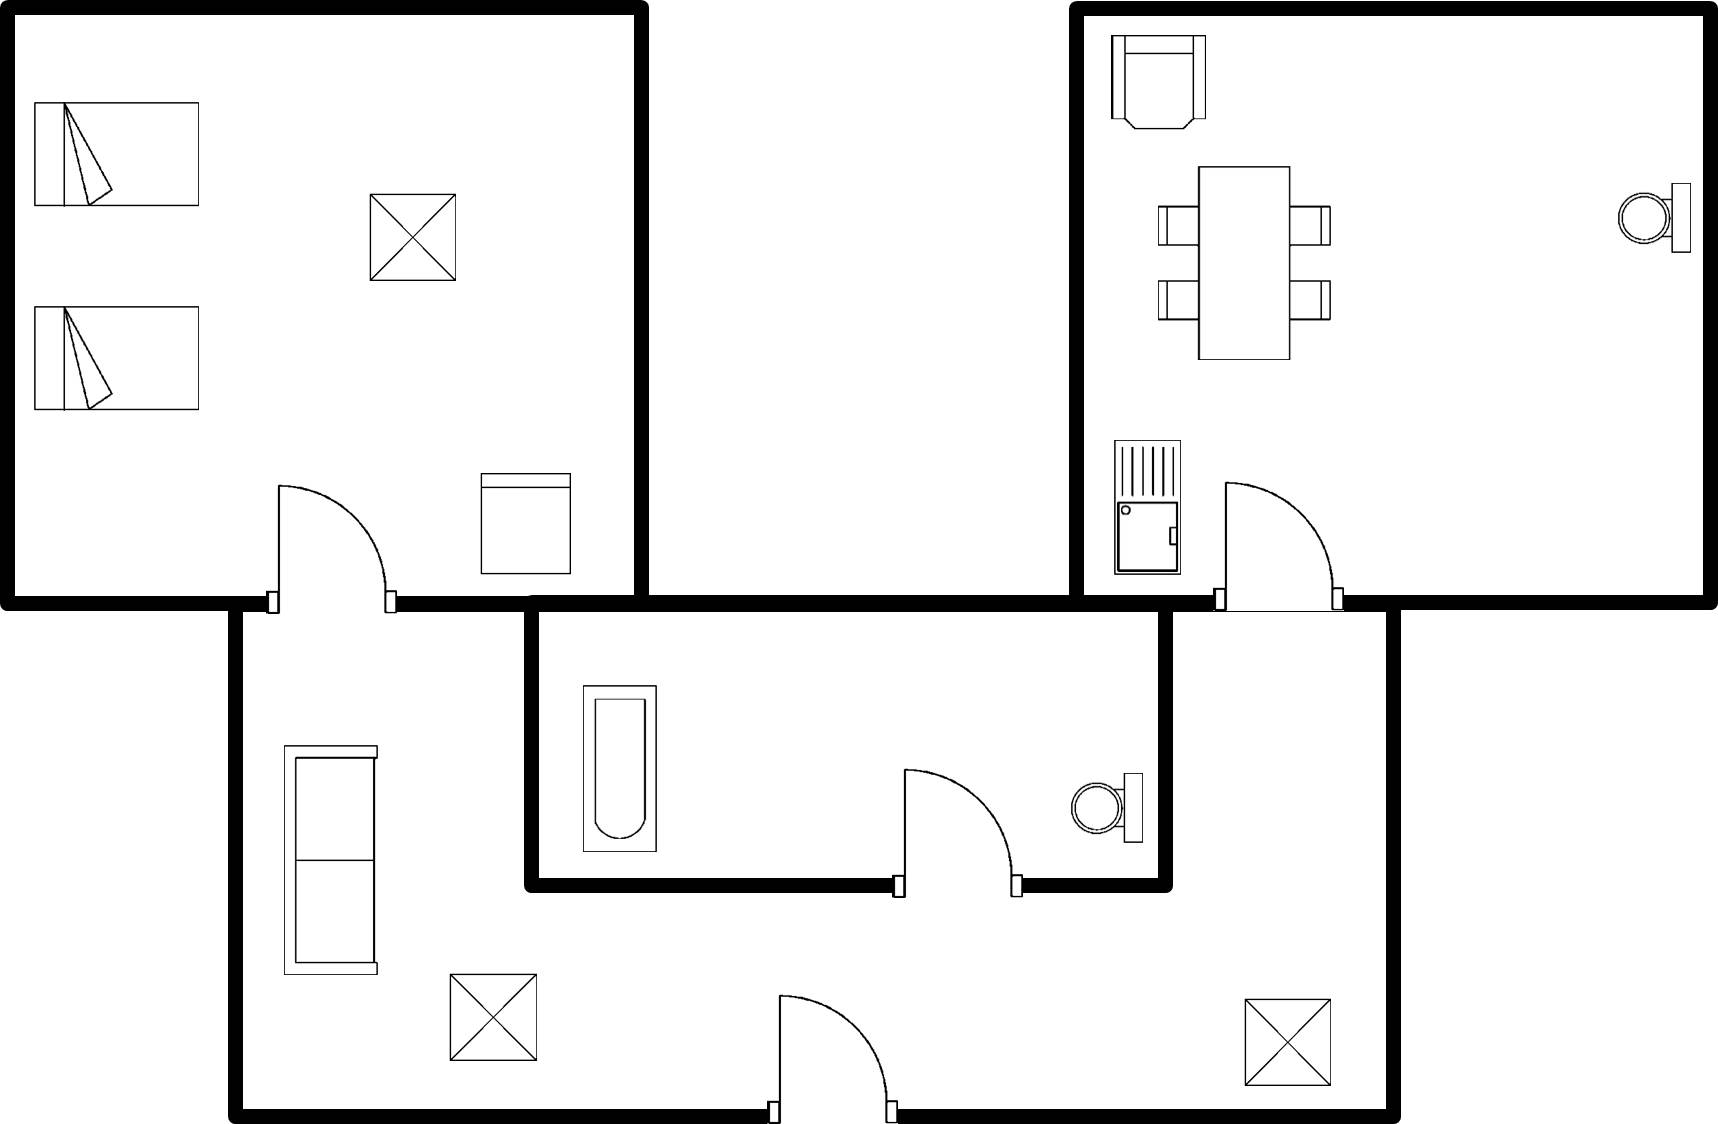armchair: (1099, 25, 1215, 138)
bed: (25, 297, 209, 421), (24, 93, 209, 215)
coffee_table: (438, 961, 546, 1070), (1231, 989, 1342, 1095), (360, 184, 465, 294)
dining_table: (1149, 158, 1335, 375)
large_sink: (1062, 764, 1151, 853), (1610, 175, 1699, 264)
sink: (1104, 431, 1195, 581)
small_sofa: (273, 738, 388, 987), (469, 465, 586, 583)
tub: (573, 673, 667, 861)
